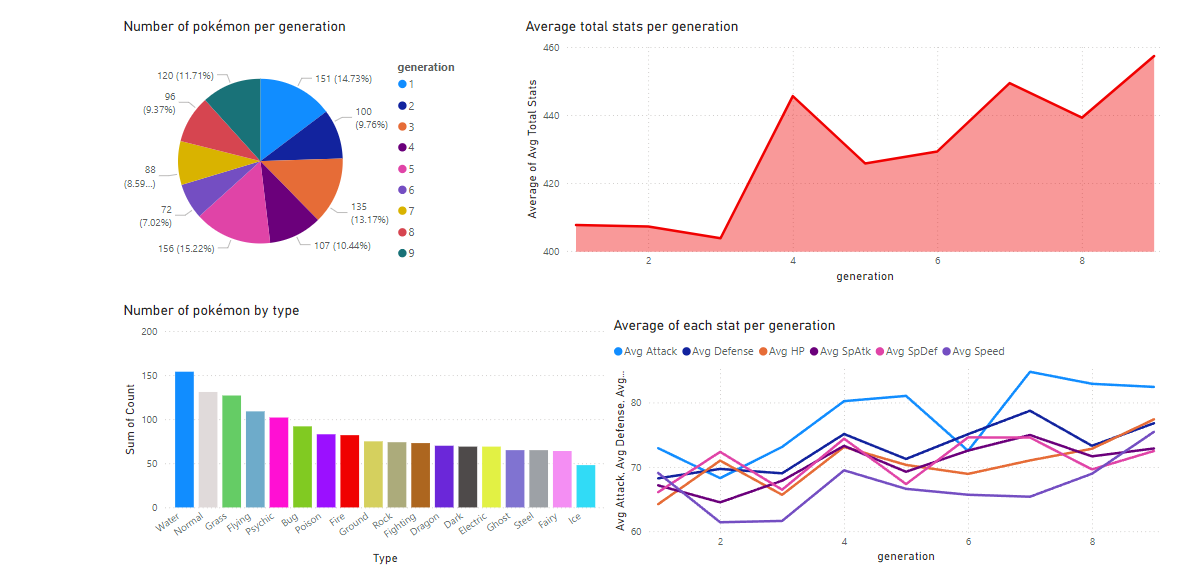

The dashboard page shown, as its layout file describes it:
{"tool":"powerbi","page":{"name":"Page 1","canvas":[1280,720],"ordinal":0},"visuals":[{"type":"pieChart","title":"Number of pokémon per generation","fields":{"Category":["cleaned_data.generation"],"Y":["CountNonNull(cleaned_data.ID)"]},"box":[23,59.9,425.3,322.5],"z":0},{"type":"columnChart","title":"Number of pokémon by type","fields":{"Category":["Append1.Type"],"Y":["Sum(Append1.Count)"]},"box":[23,400.4,588.1,319.5],"z":1000},{"type":"areaChart","title":"Average total stats per generation","fields":{"Category":["stats.generation"],"Y":["Avg(stats.Avg Total Stats)"]},"box":[505.2,59.9,774.8,322.5],"z":2000},{"type":"lineChart","title":"Average of each stat per generation","fields":{"Category":["stats.generation"],"Y":["stats.Avg Attack","stats.Avg Defense","stats.Avg HP","stats.Avg SpAtk","stats.Avg SpDef","stats.Avg Speed"]},"box":[611,419.3,669,300.5],"z":3000}]}

Visuals, with their boxes on the page's 1280x720 design canvas (x1, y1, x2, y2). These are canvas units, not pixel positions in the 1198x566 screenshot, which may show the page scaled, cropped or inside an application window:
"Number of pokémon per generation" pieChart: {"left": 23, "top": 60, "right": 448, "bottom": 382}
"Number of pokémon by type" columnChart: {"left": 23, "top": 400, "right": 611, "bottom": 720}
"Average total stats per generation" areaChart: {"left": 505, "top": 60, "right": 1280, "bottom": 382}
"Average of each stat per generation" lineChart: {"left": 611, "top": 419, "right": 1280, "bottom": 720}
